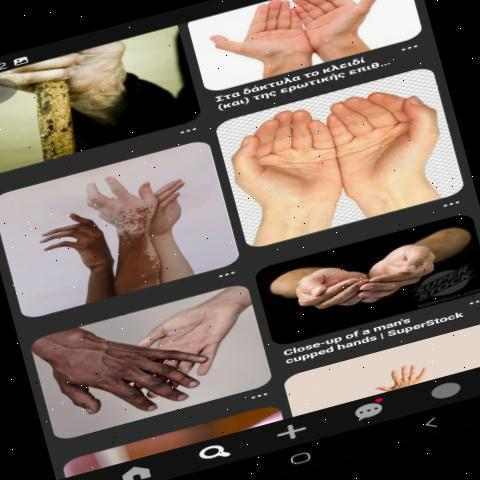Hands: (33, 324, 216, 423), (327, 89, 463, 214), (224, 96, 344, 236), (76, 160, 164, 272), (198, 4, 318, 72)
